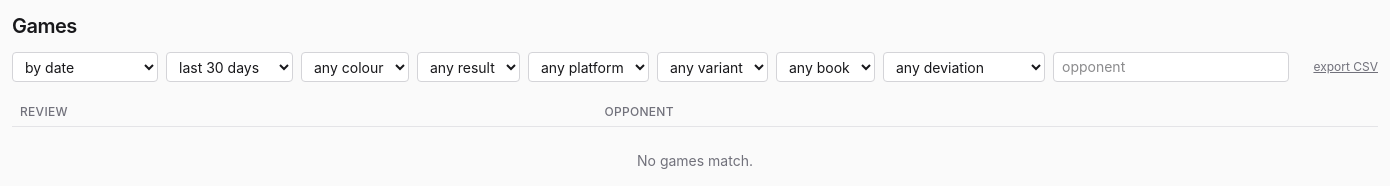
Scenario: Games page › ignores a slow earlier response that resolves after a newer request
Type "zz" into the field labelled "opponent". click: [1171, 67]
box: [1053, 52, 1289, 82]
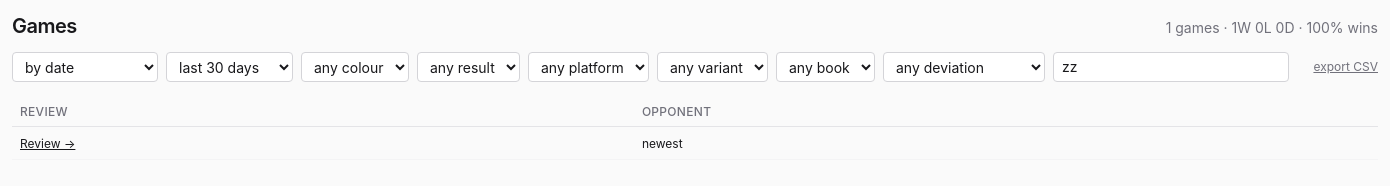
Check: the text "newest" is shown, box [642, 136, 683, 151]
